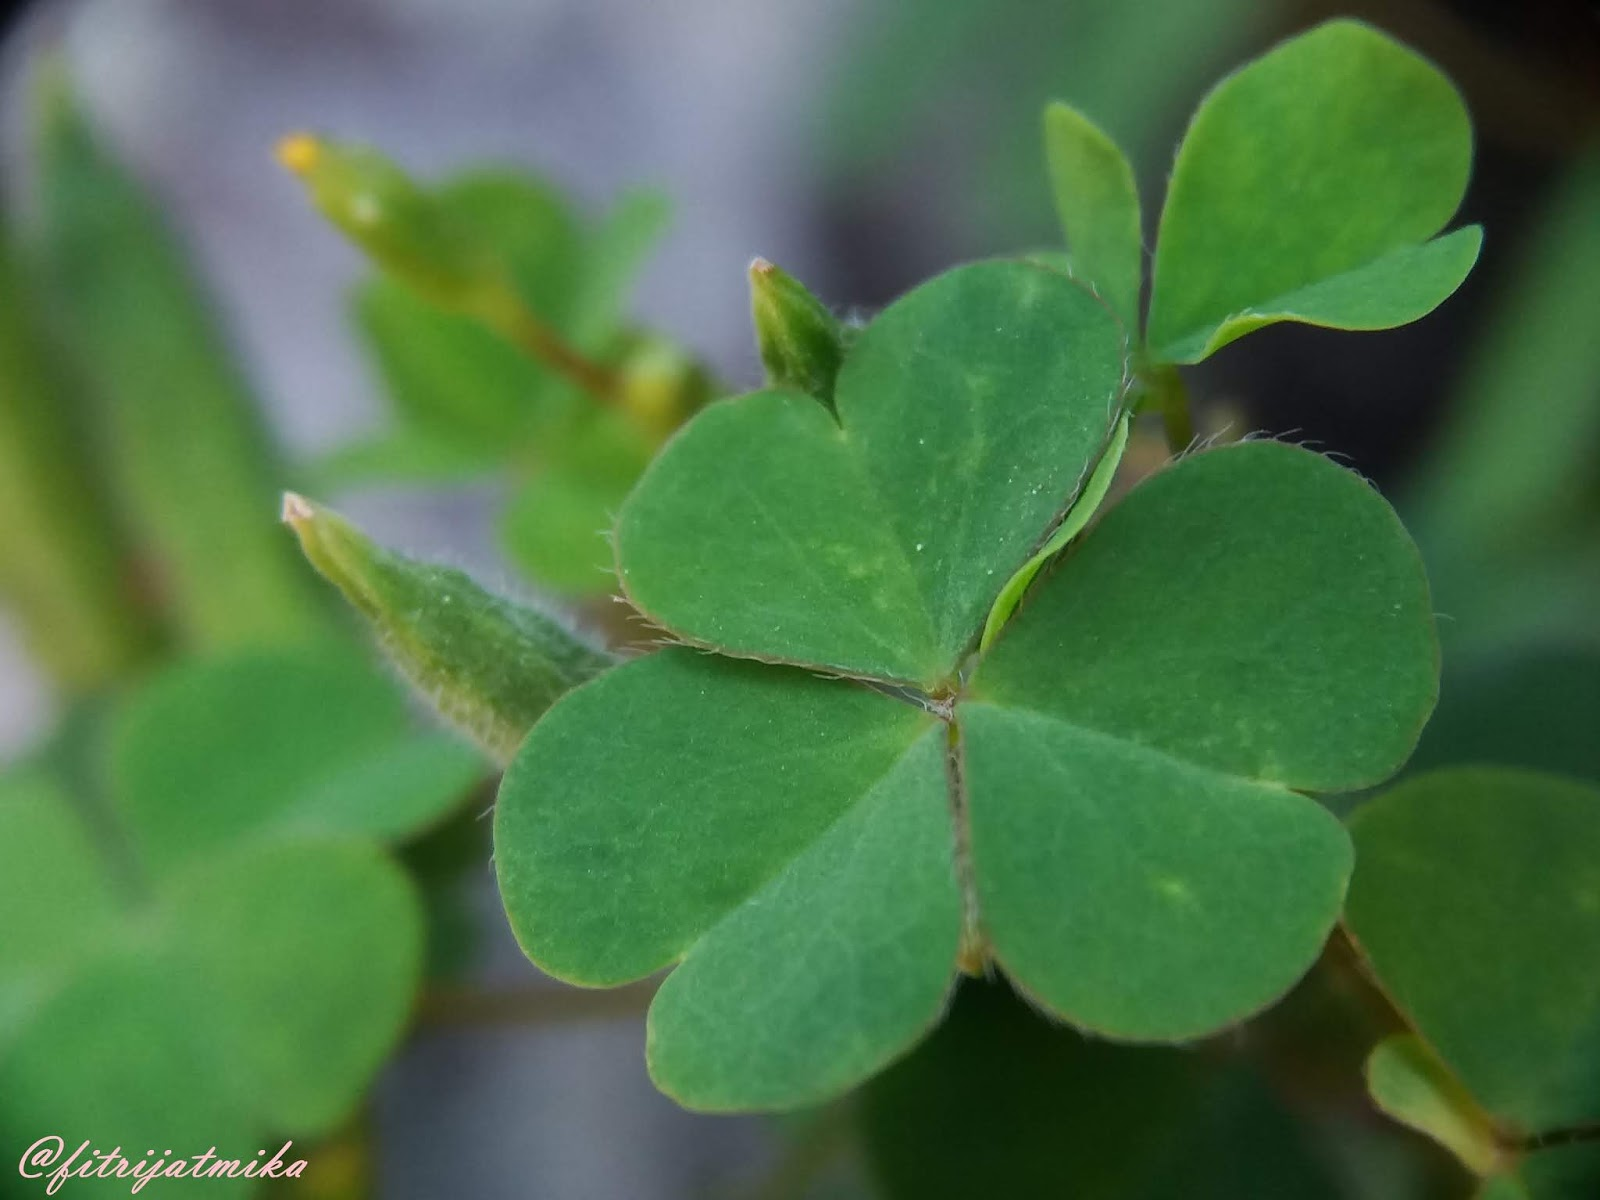oxalis: (509, 266, 1388, 1051)
